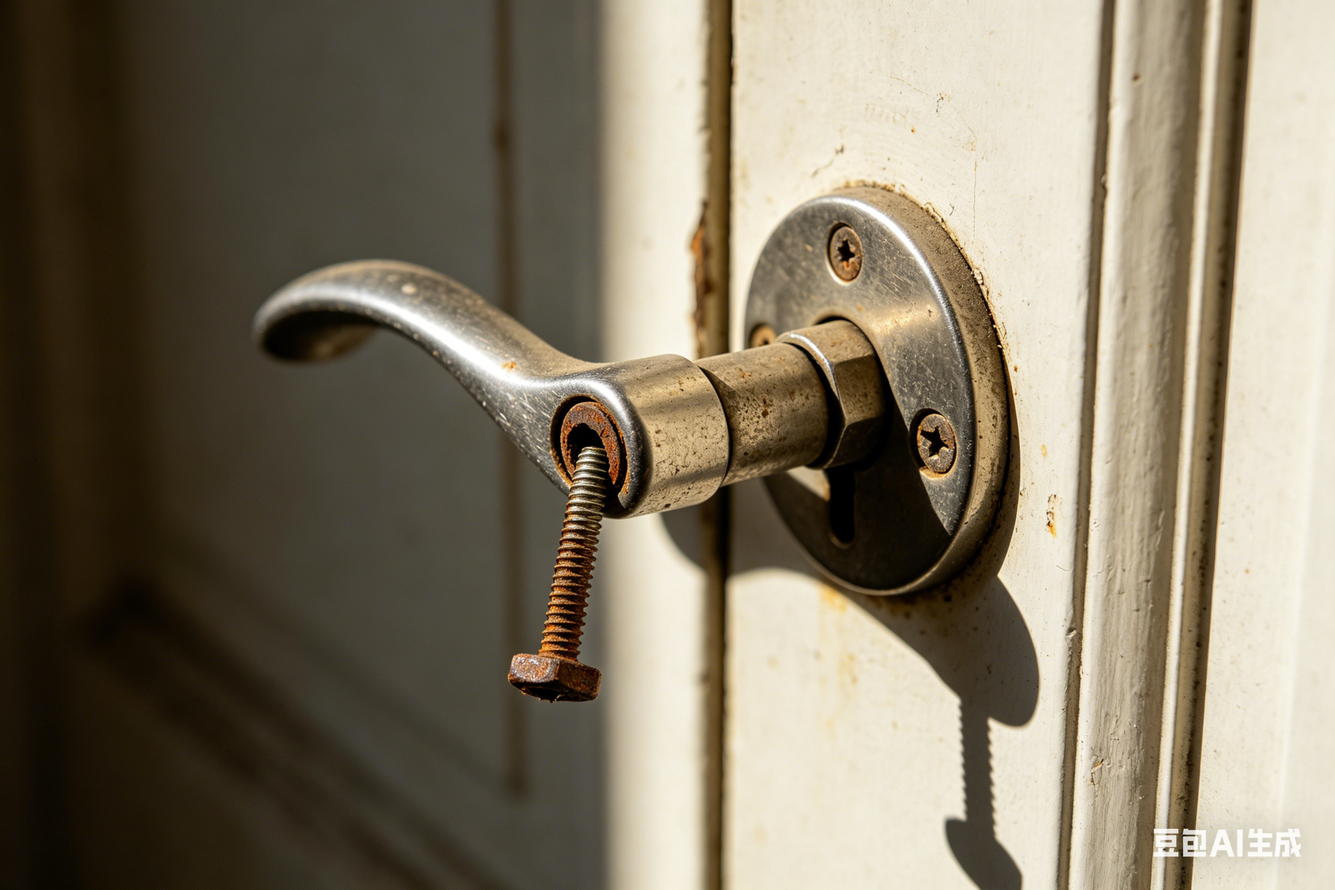BadLock: (506, 392, 623, 705)
